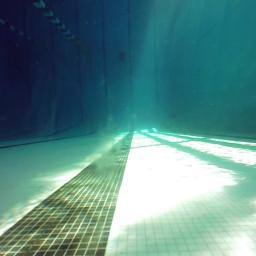Full: (118, 52, 125, 62)
